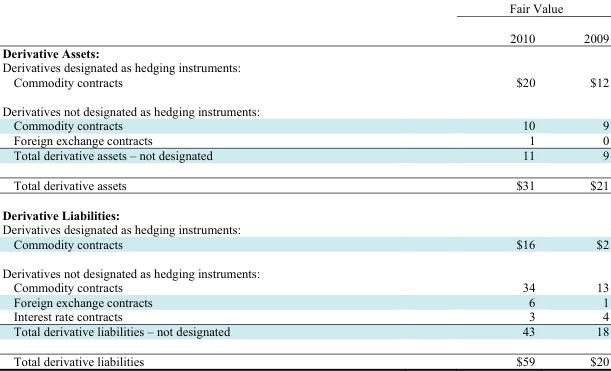table: (1, 0, 608, 367)
table column: (1, 0, 368, 367), (368, 0, 558, 367), (558, 0, 608, 367)
table column header: (1, 0, 608, 45)
table projected row header: (1, 199, 608, 221), (1, 257, 608, 279), (1, 96, 608, 117), (1, 59, 608, 74), (1, 221, 608, 236), (1, 45, 608, 59)
table row: (1, 169, 608, 199), (1, 22, 608, 45), (1, 0, 608, 22), (1, 74, 608, 96), (1, 147, 608, 169), (1, 199, 608, 221), (1, 257, 608, 279), (1, 323, 608, 345), (1, 345, 608, 367), (1, 96, 608, 117), (1, 236, 608, 257), (1, 59, 608, 74), (1, 117, 608, 132), (1, 132, 608, 147), (1, 221, 608, 236), (1, 279, 608, 294), (1, 308, 608, 323), (1, 45, 608, 59), (1, 294, 608, 308)
table spanning cell: (368, 0, 608, 22)
